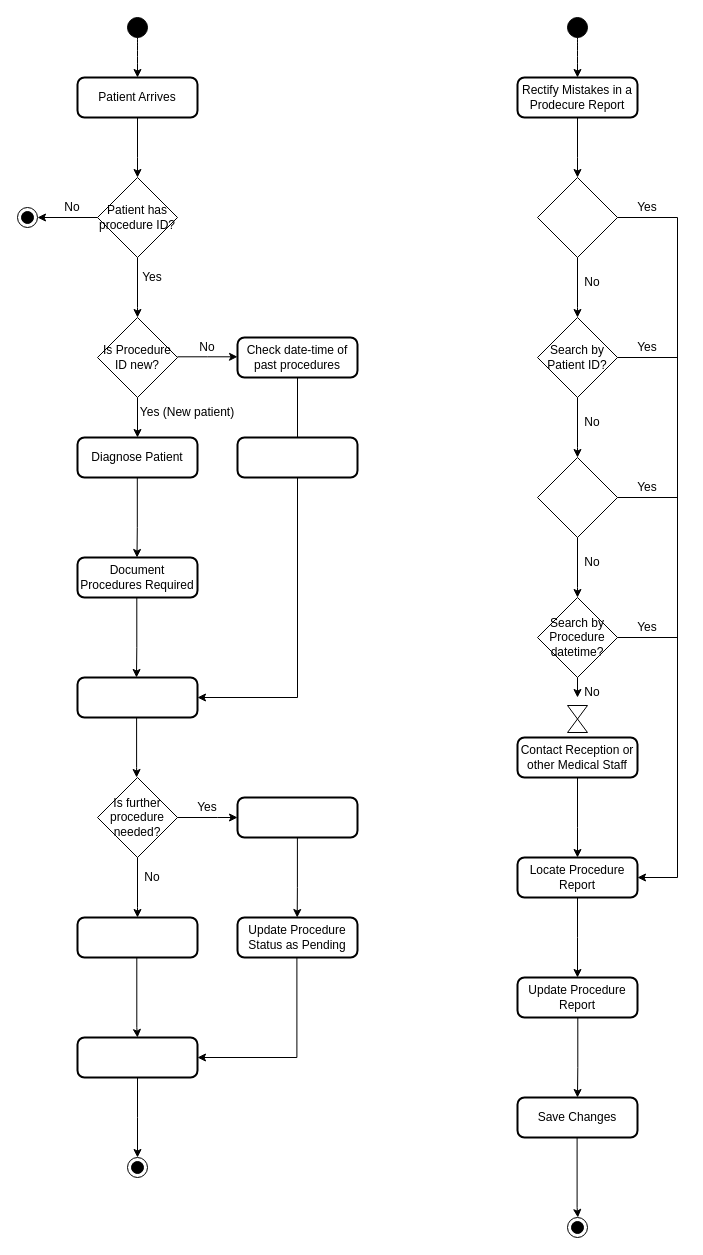
Some shapes in this 703 by 1255 pixel diagram are drawn without their labels. Each missing label, with the centre of its shape:
Complete Procedure: point (137, 697)
Continue Treatment Course as planned: point (297, 457)
Create Courses of Treatment plan (in description): point (297, 817)
Search by Patient Name?: point (577, 217)
Search by Procedure ID?: point (577, 497)
Submit Procedure Report: point (137, 1057)
Update Procedure Status as Complete: point (137, 937)
